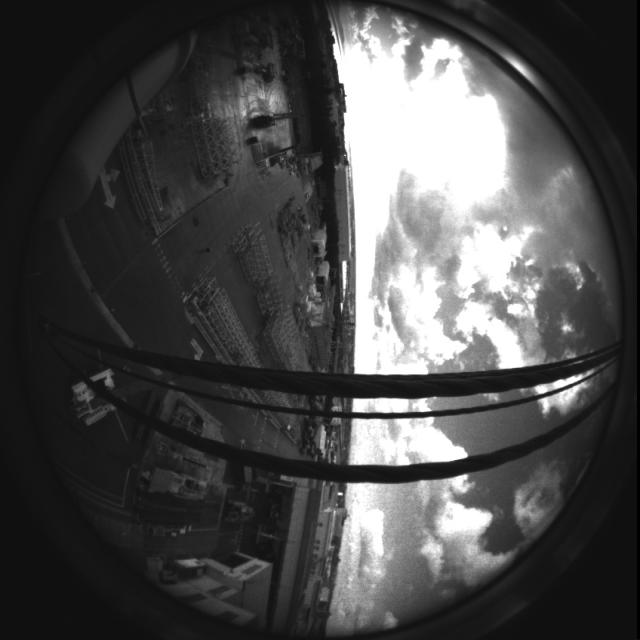rope: (11, 304, 636, 494)
sky: (323, 2, 620, 637)
